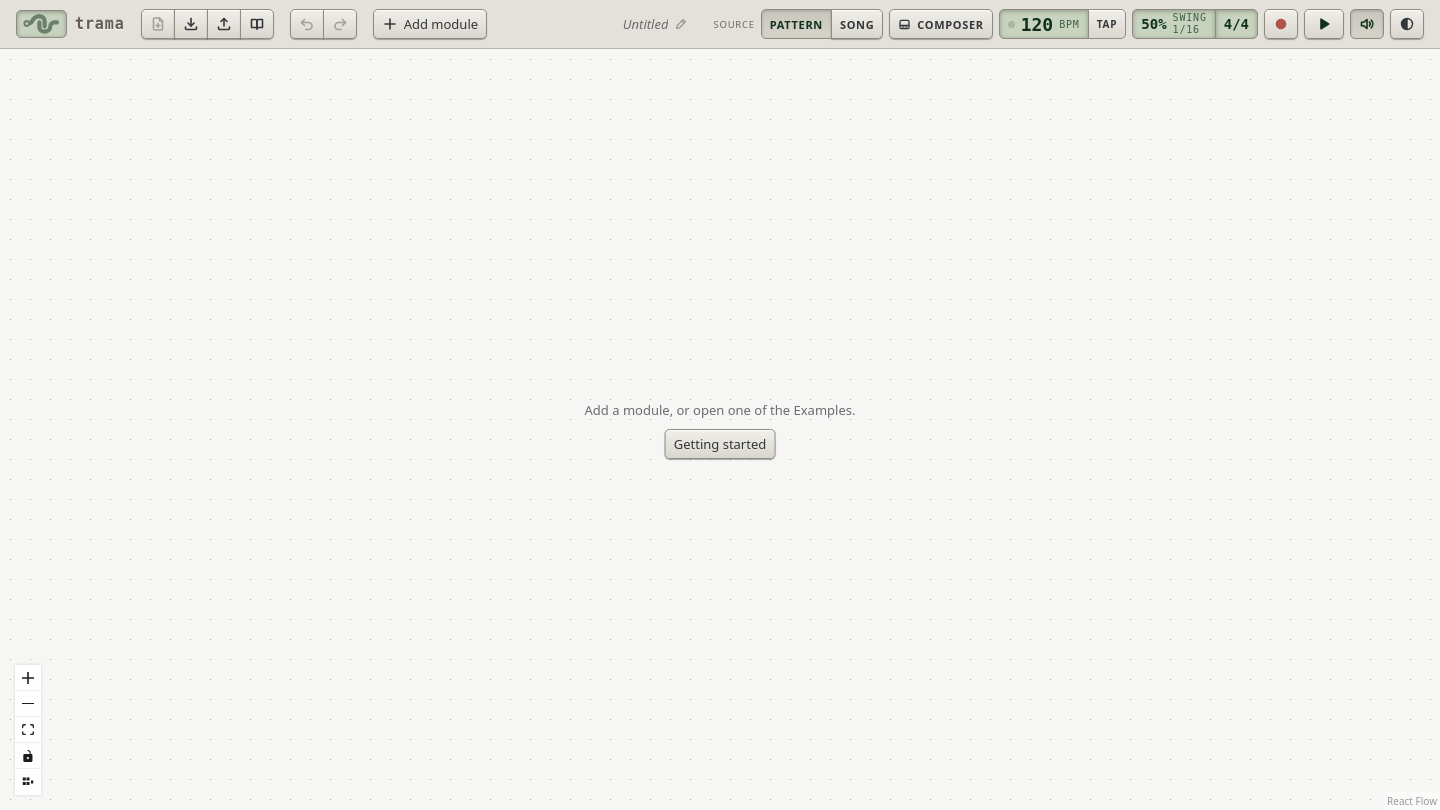
App › changes the theme from the header, keeping it for the next time
Step 1. Click the button named "Theme: system" → (1407, 24), box [1390,9,1424,39]
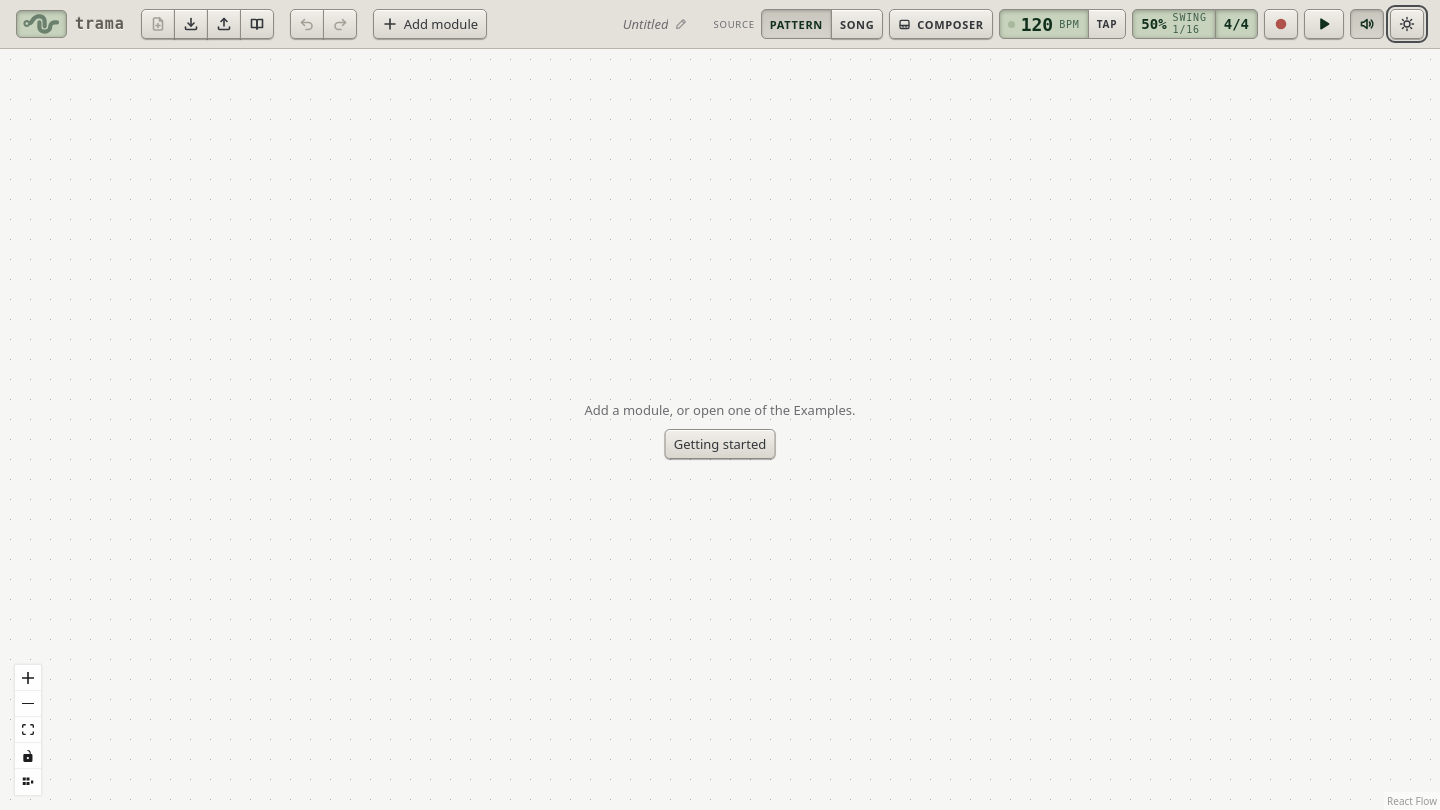
Step 2. Click the button named "Theme: light" → (1407, 24), box [1390,9,1424,39]
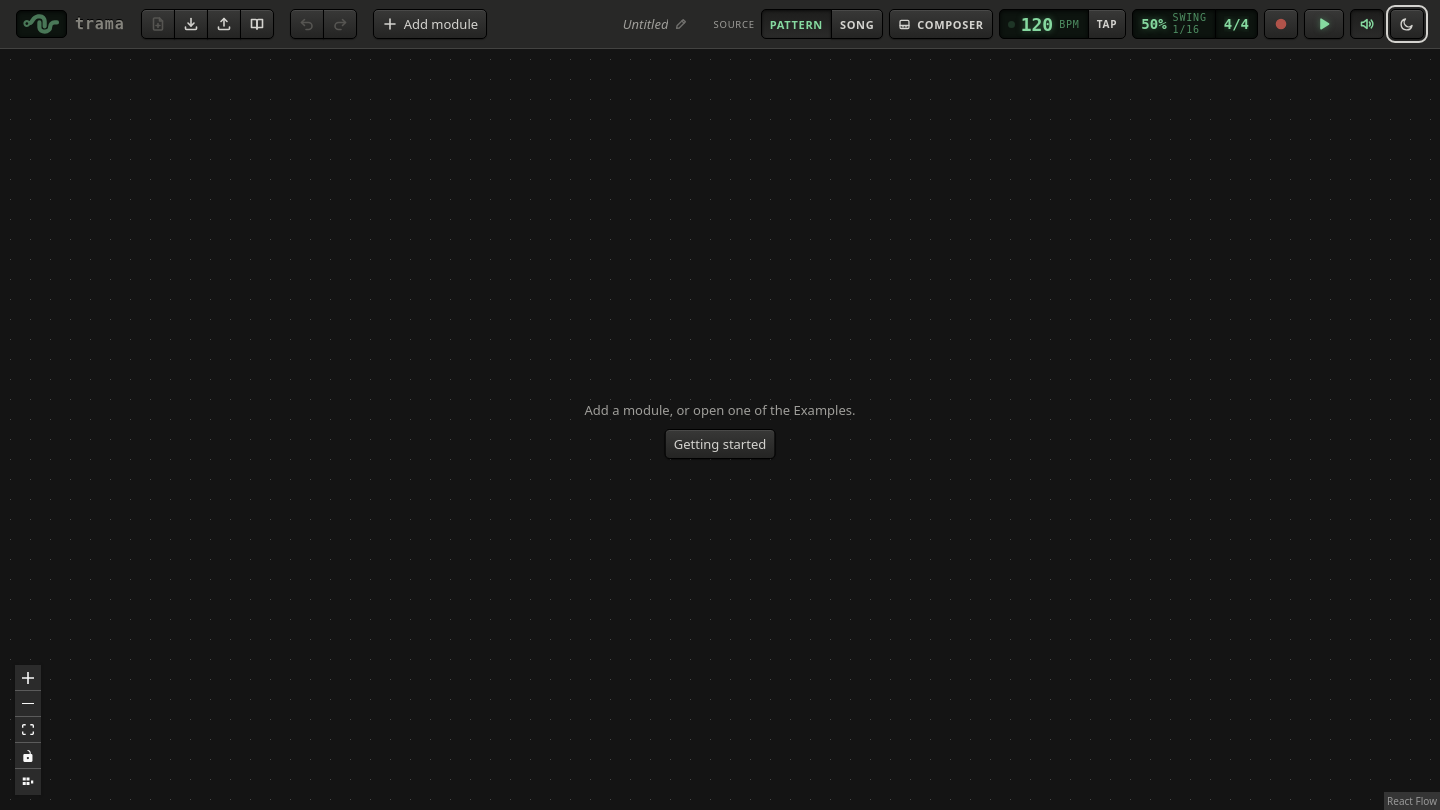
Check: the button named "Theme: dark" is shown, box [1390,9,1424,39]
